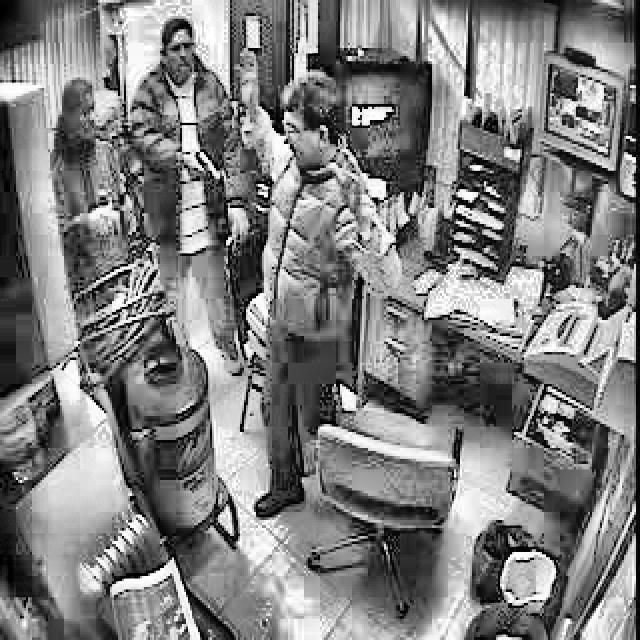robbery: (236, 14, 407, 310), (120, 15, 259, 266)
